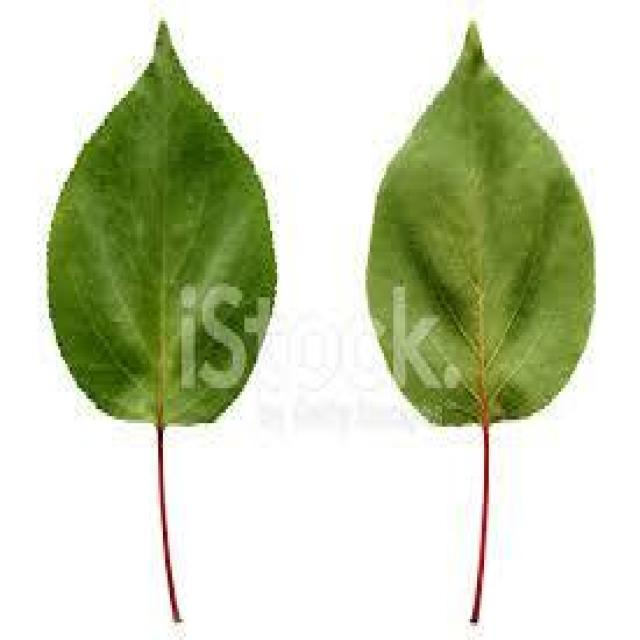yaprak: (25, 24, 621, 604)
